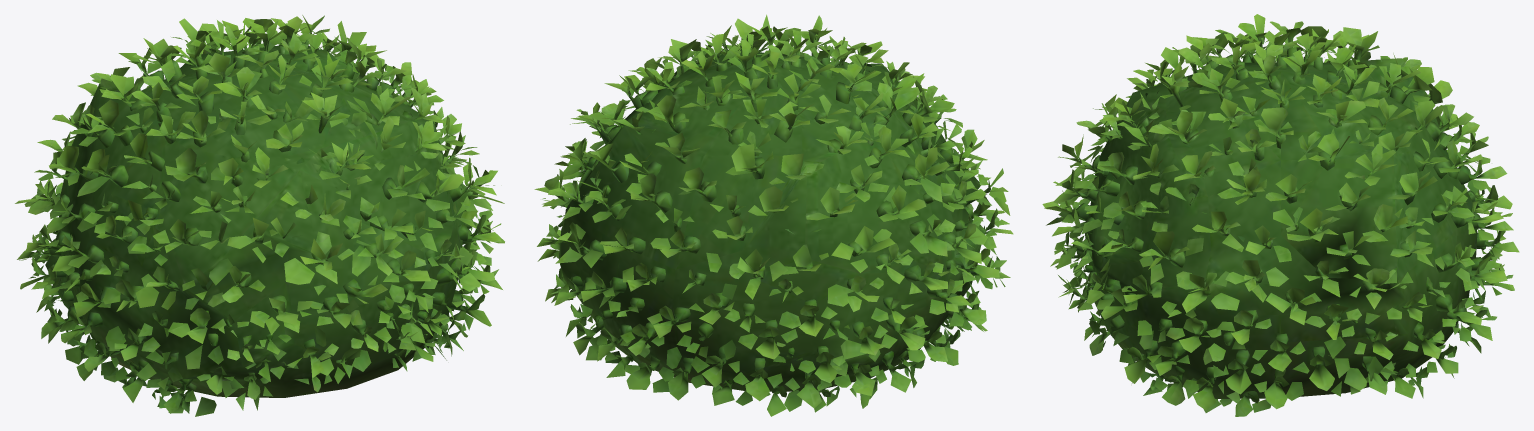
File: bush.glb
The picture shows the model from 3 angles, left to right: view 1: azimuth 30°, elevation 25°; view 2: azimuth 150°, elevation 25°; view 3: azimuth 270°, elevation 25°; orthographic projection. The views are drawn at different scales.
Parts seen in each view (by area): view 1: tripo_node_fbc72875-42a3-4540-900f-3cb253610542; view 2: tripo_node_fbc72875-42a3-4540-900f-3cb253610542; view 3: tripo_node_fbc72875-42a3-4540-900f-3cb253610542.
Part boxes in pixels (x1,y1,x2,y2): tripo_node_fbc72875-42a3-4540-900f-3cb253610542: (15,15,504,416); tripo_node_fbc72875-42a3-4540-900f-3cb253610542: (534,14,1013,416); tripo_node_fbc72875-42a3-4540-900f-3cb253610542: (1042,14,1519,416).
Size of the model in its own units: 0.9995 by 0.6938 by 0.9946.
1 material, 1 textured.
